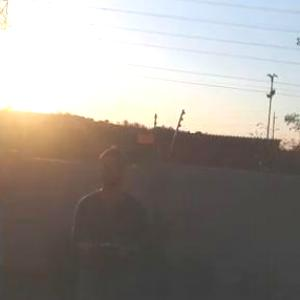follow: (67, 138, 152, 299)
